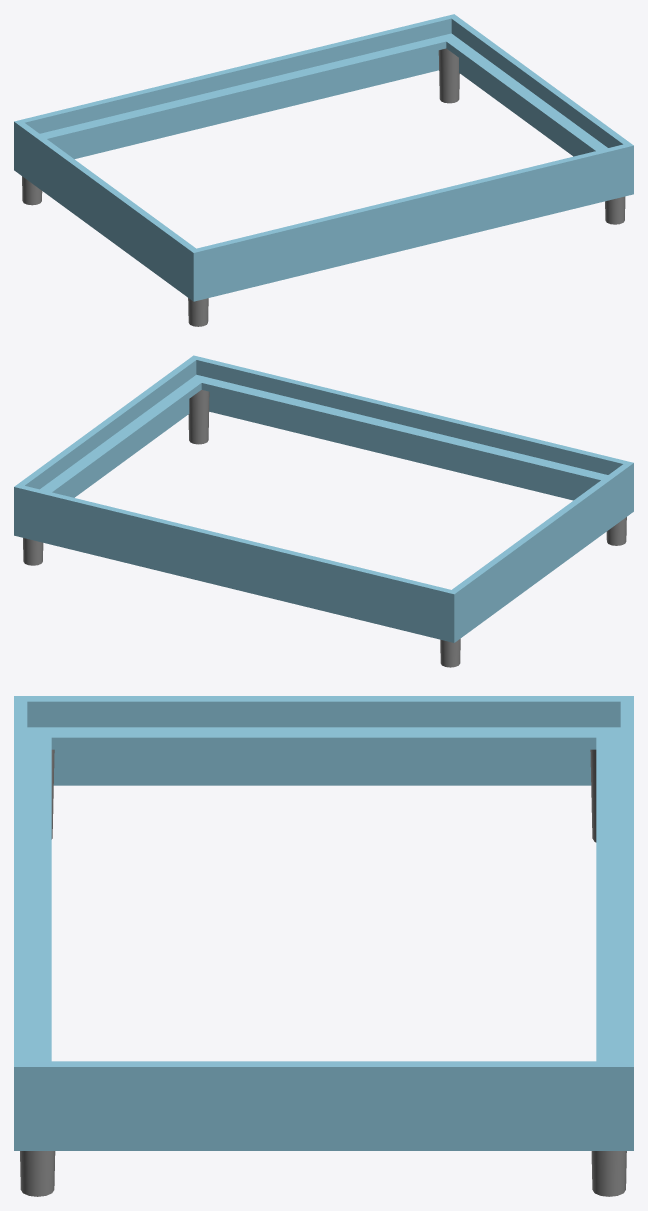
The model's file is FURNITURE_largeBed_02.FBX.
The picture shows the model from 3 angles, top to bottom: view 1: azimuth 30°, elevation 25°; view 2: azimuth 150°, elevation 25°; view 3: azimuth 270°, elevation 25°; orthographic projection. The views are drawn at different scales.
Parts seen in each view (by area): view 1: FURNITURE_largeBed_02; view 2: FURNITURE_largeBed_02; view 3: FURNITURE_largeBed_02.
Boxes of the visible parts, box(x1,y1,x2,y2) form: FURNITURE_largeBed_02: box(14, 14, 633, 326); FURNITURE_largeBed_02: box(14, 355, 633, 667); FURNITURE_largeBed_02: box(14, 696, 633, 1196).
Size of the model in its own units: 255 by 42.64 by 180.
